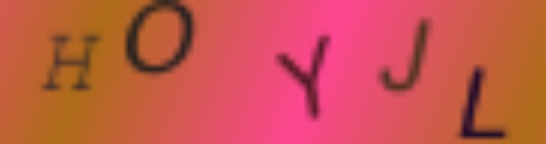H: (40, 31, 103, 96)
J: (372, 15, 436, 95)
L: (456, 63, 513, 142)
O: (123, 1, 198, 75)
Y: (273, 30, 333, 125)
